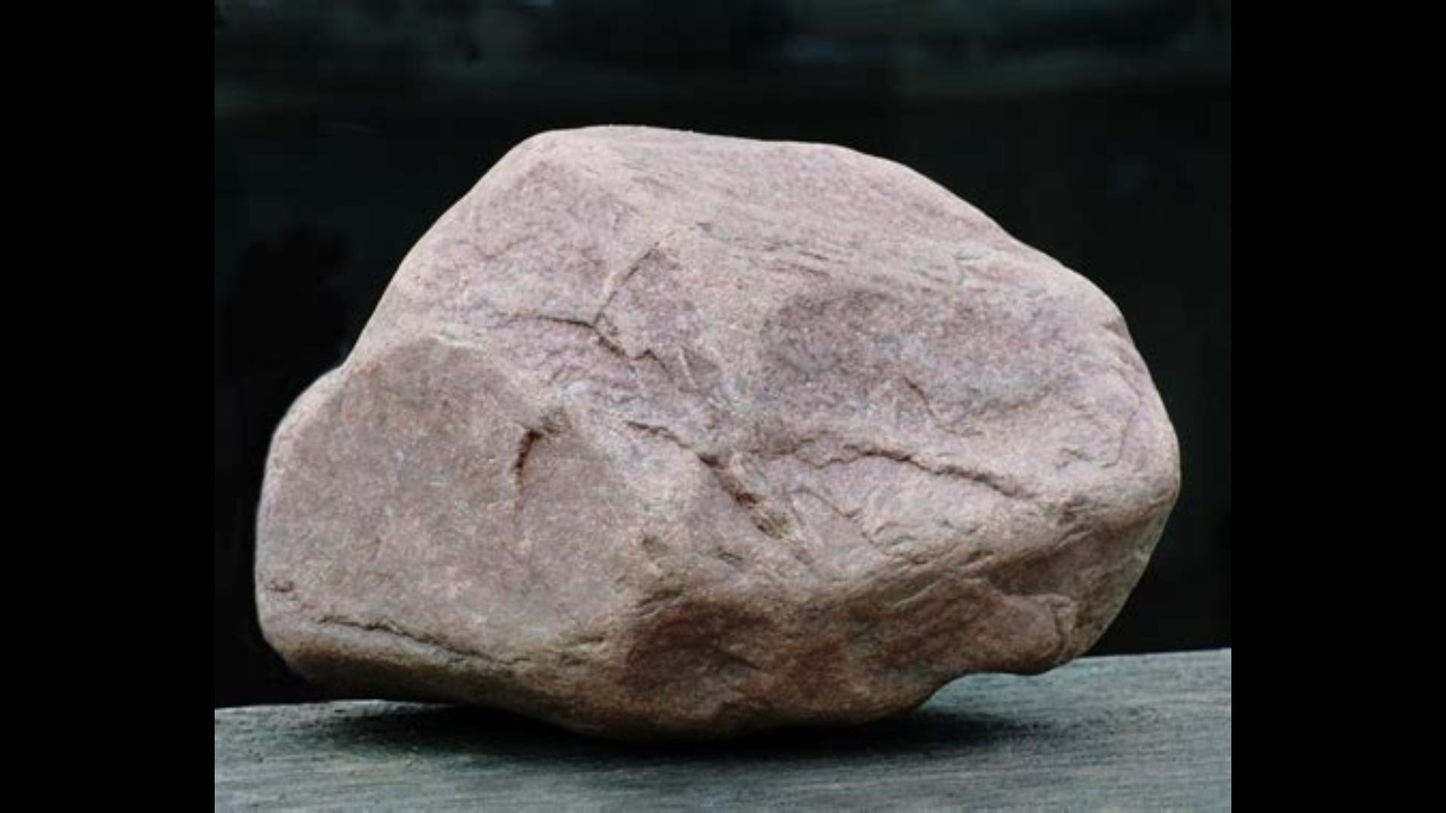rock: (258, 127, 1176, 736)
